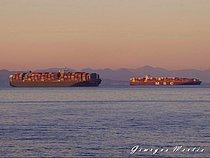Ship: (7, 66, 106, 92), (127, 70, 206, 92)
